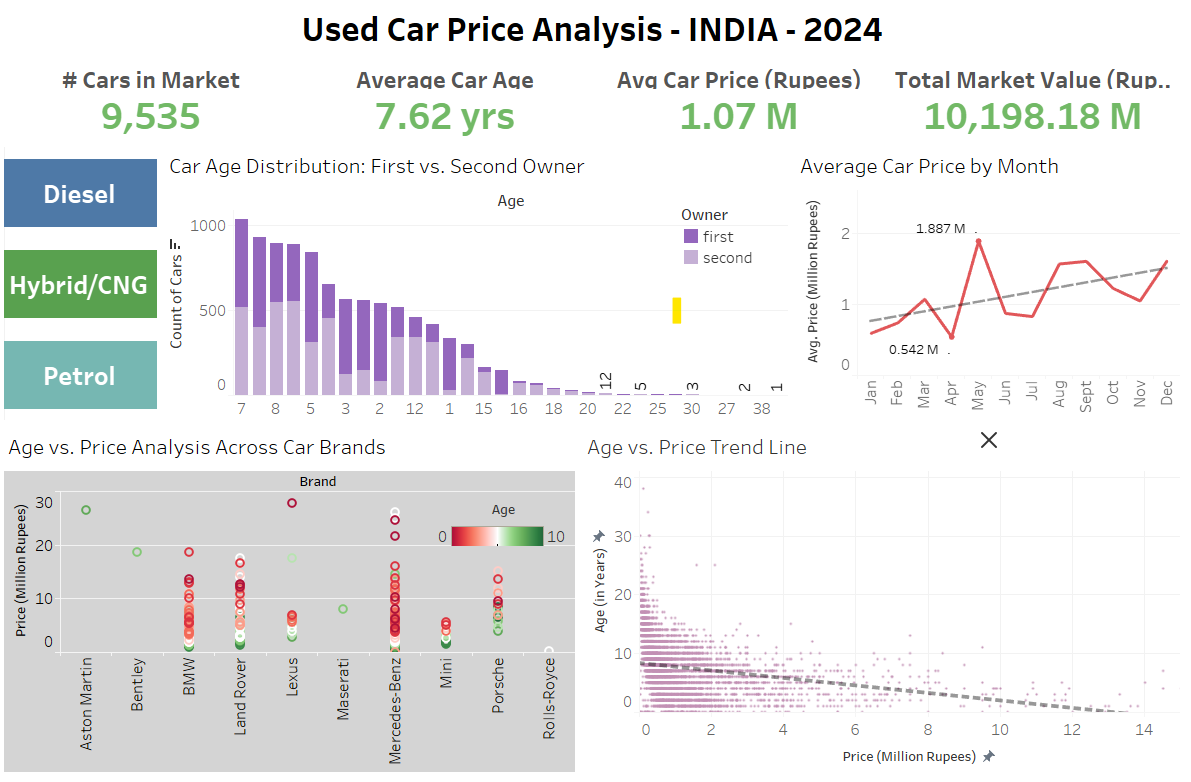

This screenshot's page, from the dashboard's own definition file:
{"tool":"tableau","page":{"name":"Dashboard 1","canvas":[1200,800],"ordinal":0},"visuals":[{"type":"text","box":[8,8,1184,72]},{"type":"worksheet","title":"KPIs","mark":"Automatic","box":[8,80,1184,79]},{"type":"worksheet","title":"Switches","mark":"Automatic","rows":["FuelType"],"cols":["Calculation_744782814234841092"],"box":[8,159,161,281.3]},{"type":"worksheet","title":"Age Distribution","mark":"Automatic","rows":["Age"],"cols":["Age"],"box":[169,159,631,281.3]},{"type":"worksheet","title":"Avg Price vs Month","mark":"Automatic","rows":["Calculation_744782813862846464"],"cols":["PostedDate"],"box":[800,159,391.9,281.3]},{"type":"legend","title":"Age Distribution","param":"[federated.1f3q68j08if7ov18ftdvy1f51gij].[none:Owner:nk]","box":[689,220,140,77.3]},{"type":"dashboard-object","box":[985,440,24,32]},{"type":"worksheet","title":"Age vs Price by Brand","mark":"Shape","rows":["Calculation_744782813862846464"],"cols":["Brand"],"box":[8,440.3,579,351.7]},{"type":"worksheet","title":"Age vs Price","mark":"Circle","rows":["Age"],"cols":["Calculation_744782813862846464"],"box":[587,440.3,605,351.7]},{"type":"legend","title":"Age vs Price by Brand","param":"[federated.1f3q68j08if7ov18ftdvy1f51gij].[none:Age:qk]","box":[442,516,136,46]}]}

Visuals, with their boxes in screenshot pixels (x1, y1, x2, y2), scaled from the page's 1200x800 canvas onto the 1191x782 screenshot:
text: {"x1": 8, "y1": 8, "x2": 1183, "y2": 78}
"KPIs" worksheet: {"x1": 8, "y1": 78, "x2": 1183, "y2": 155}
"Switches" worksheet: {"x1": 8, "y1": 155, "x2": 168, "y2": 430}
"Age Distribution" worksheet: {"x1": 168, "y1": 155, "x2": 794, "y2": 430}
"Avg Price vs Month" worksheet: {"x1": 794, "y1": 155, "x2": 1183, "y2": 430}
"Age Distribution" legend: {"x1": 684, "y1": 215, "x2": 823, "y2": 291}
dashboard-object: {"x1": 978, "y1": 430, "x2": 1001, "y2": 461}
"Age vs Price by Brand" worksheet (Shape marks): {"x1": 8, "y1": 430, "x2": 583, "y2": 774}
"Age vs Price" worksheet (Circle marks): {"x1": 583, "y1": 430, "x2": 1183, "y2": 774}
"Age vs Price by Brand" legend: {"x1": 439, "y1": 504, "x2": 574, "y2": 549}
